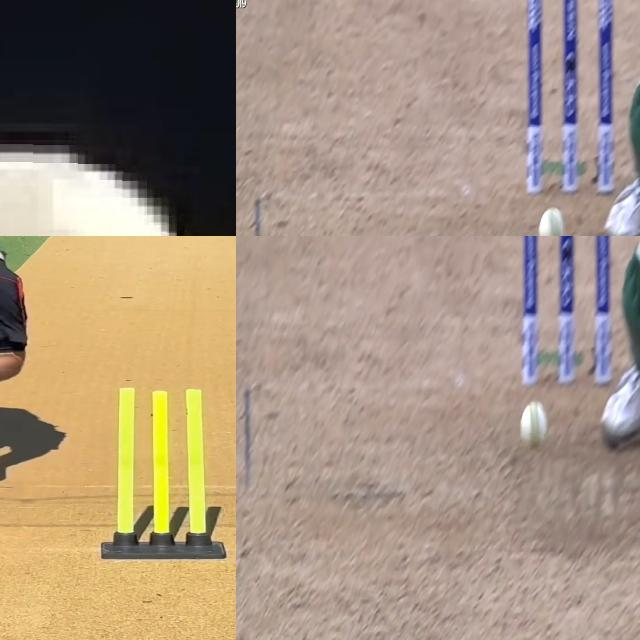Cricket ball: (0, 133, 214, 236), (520, 399, 548, 451), (537, 206, 567, 236)
Stumps: (96, 385, 228, 559), (525, 0, 614, 198)
